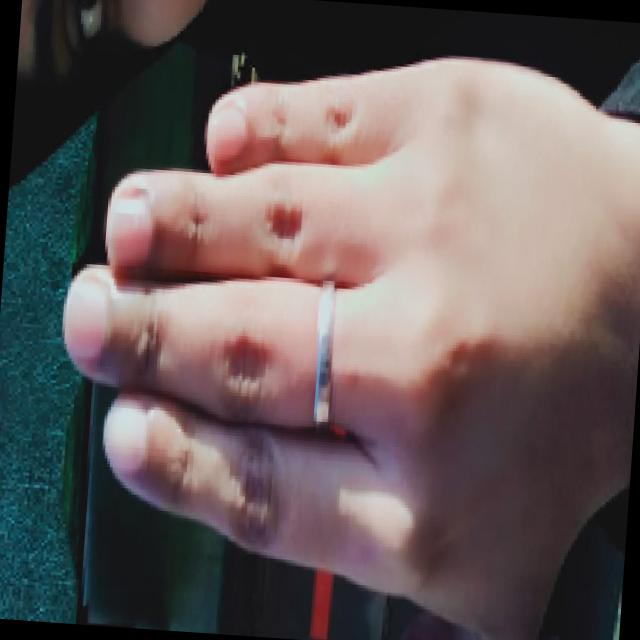Nail: (63, 271, 110, 358), (105, 193, 152, 268), (103, 395, 147, 475), (206, 106, 248, 159)
